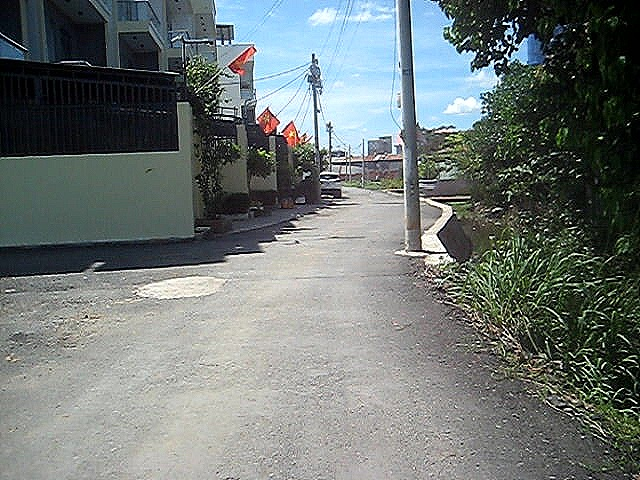hole: (137, 273, 225, 299)
